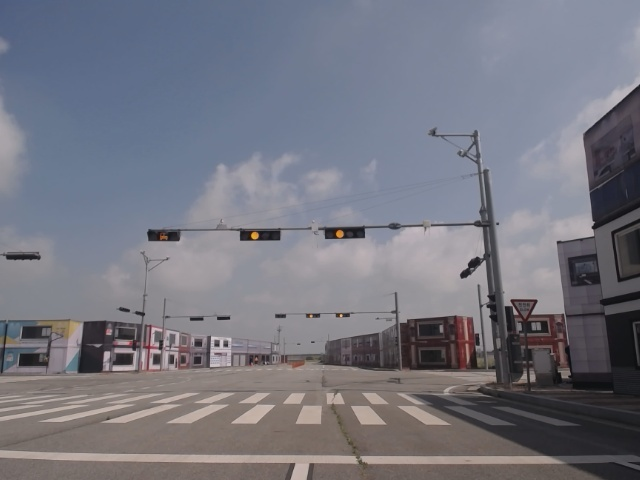orange_4: (240, 230, 280, 241), (325, 228, 366, 238)
